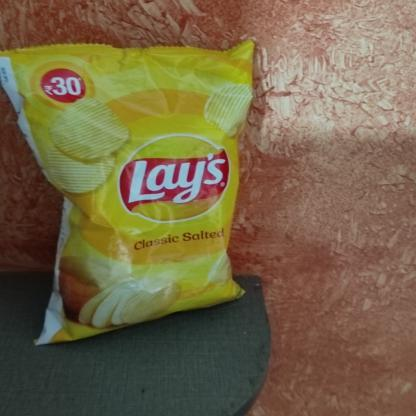classicsalted: (0, 37, 256, 346)
